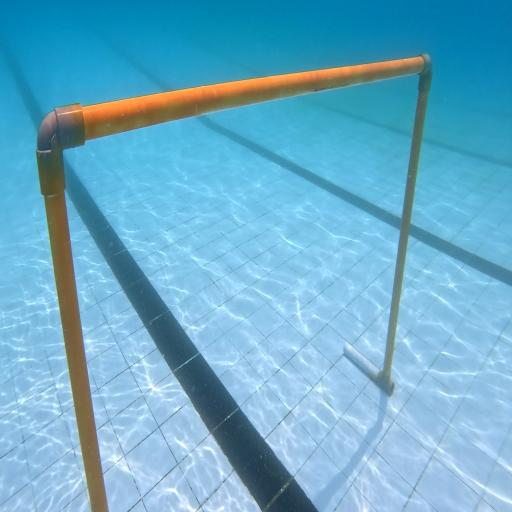gate: (36, 54, 432, 512)
